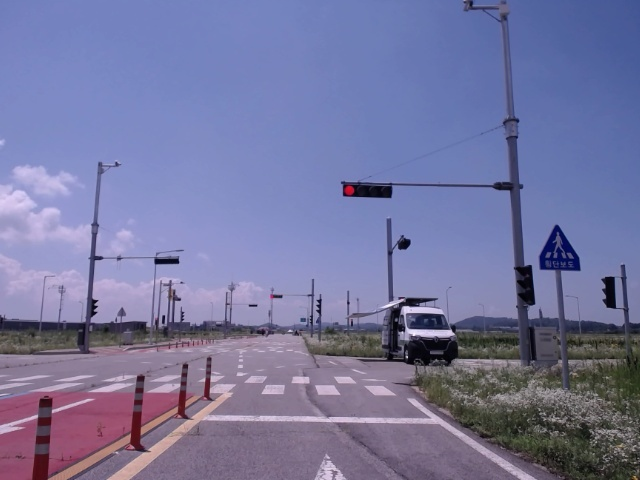red_4: (343, 184, 392, 198)
